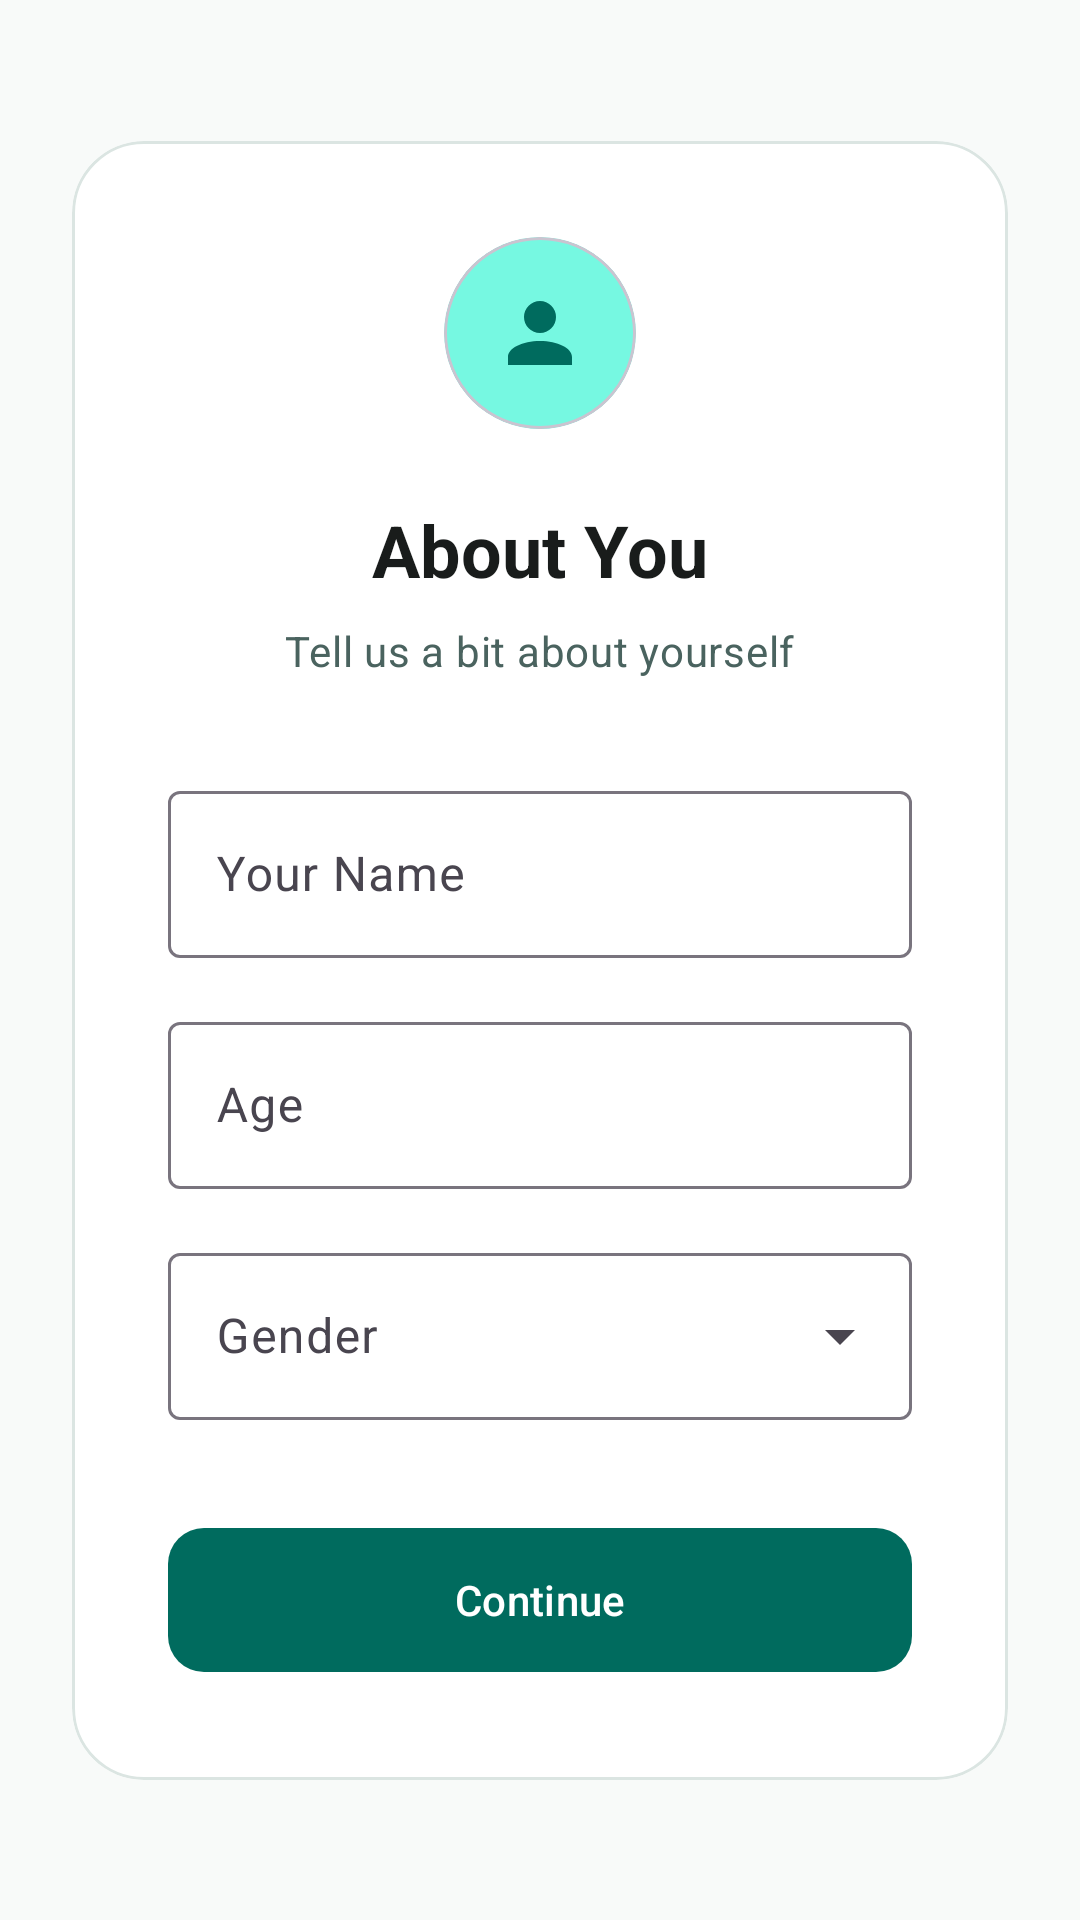

Screen size 1080*1920. Icon name, then its box in pixels as box(x1, y1, x2, y2):
person: box(444, 237, 636, 429)
